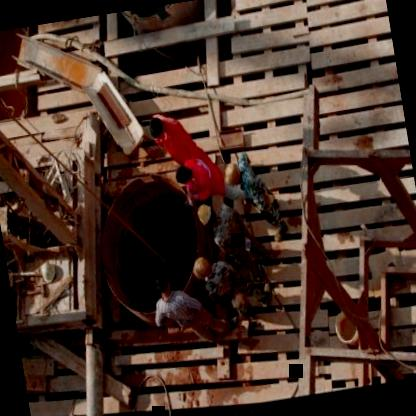head: (169, 160, 197, 185), (152, 270, 176, 298), (145, 114, 168, 140)
helmet: (188, 256, 216, 284), (221, 158, 246, 188), (194, 201, 219, 230)
